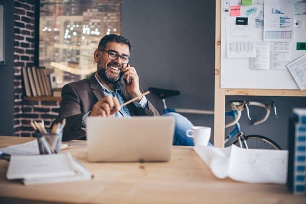male: (97, 31, 131, 87)
